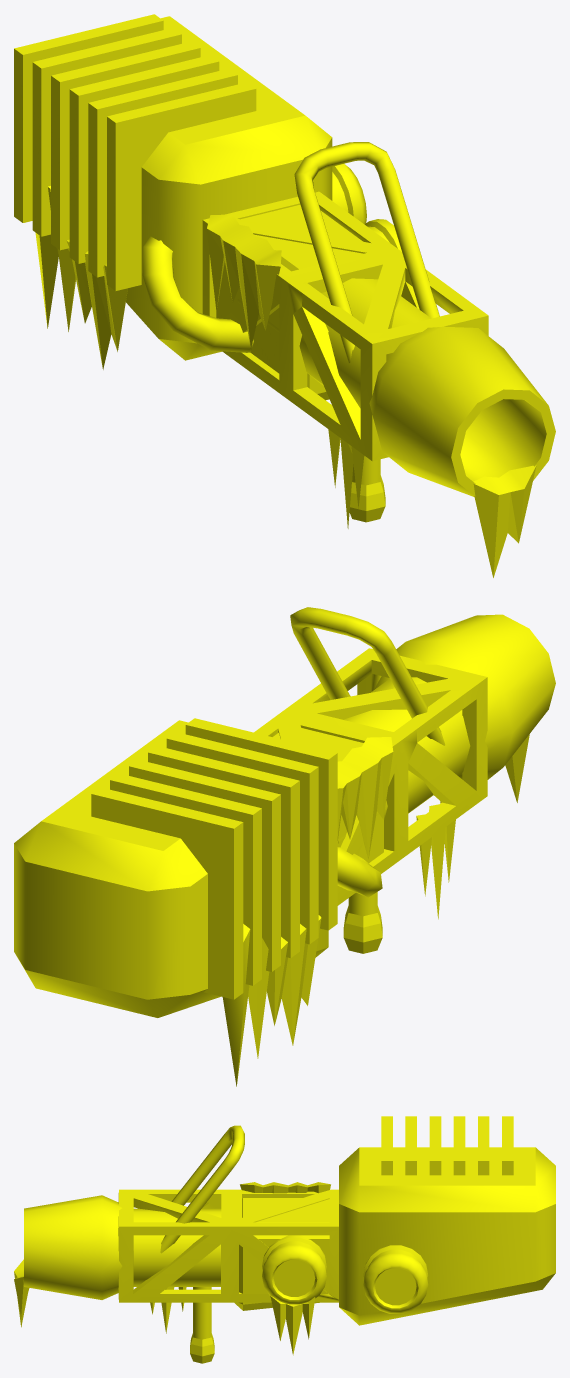
Rendered from weapon_icegun.glb.
The picture shows the model from 3 angles, top to bottom: view 1: azimuth 30°, elevation 25°; view 2: azimuth 150°, elevation 25°; view 3: azimuth 270°, elevation 25°; orthographic projection. The views are drawn at different scales.
Parts seen in each view (by area): view 1: weapon_icegun; view 2: weapon_icegun; view 3: weapon_icegun.
Boxes of the visible parts, x1,y1,x2,y2 form: weapon_icegun: (14, 14, 555, 577); weapon_icegun: (14, 607, 555, 1086); weapon_icegun: (14, 1116, 555, 1363).
Bounding box in the file's own units: 0.2734 × 0.3727 × 0.8101.
1 material, 1 textured.
